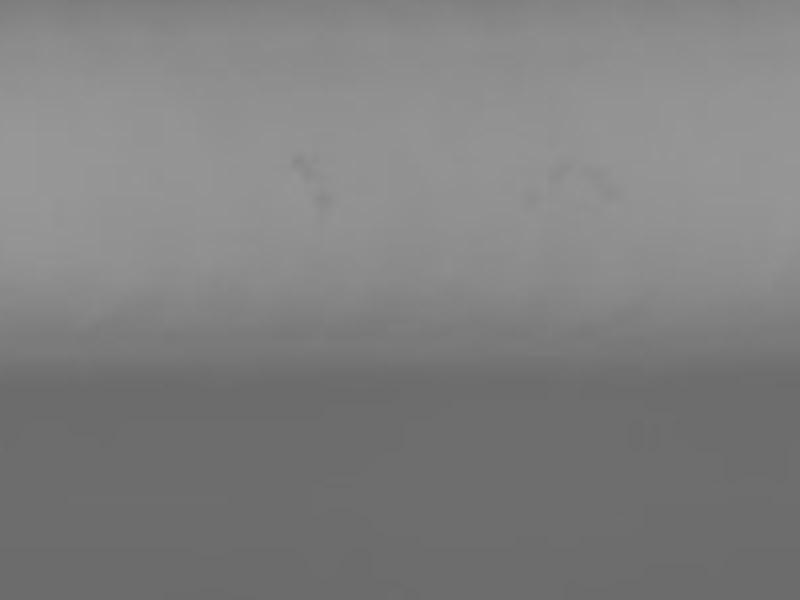defect: (309, 186, 335, 219), (289, 146, 309, 176), (598, 177, 621, 203)
